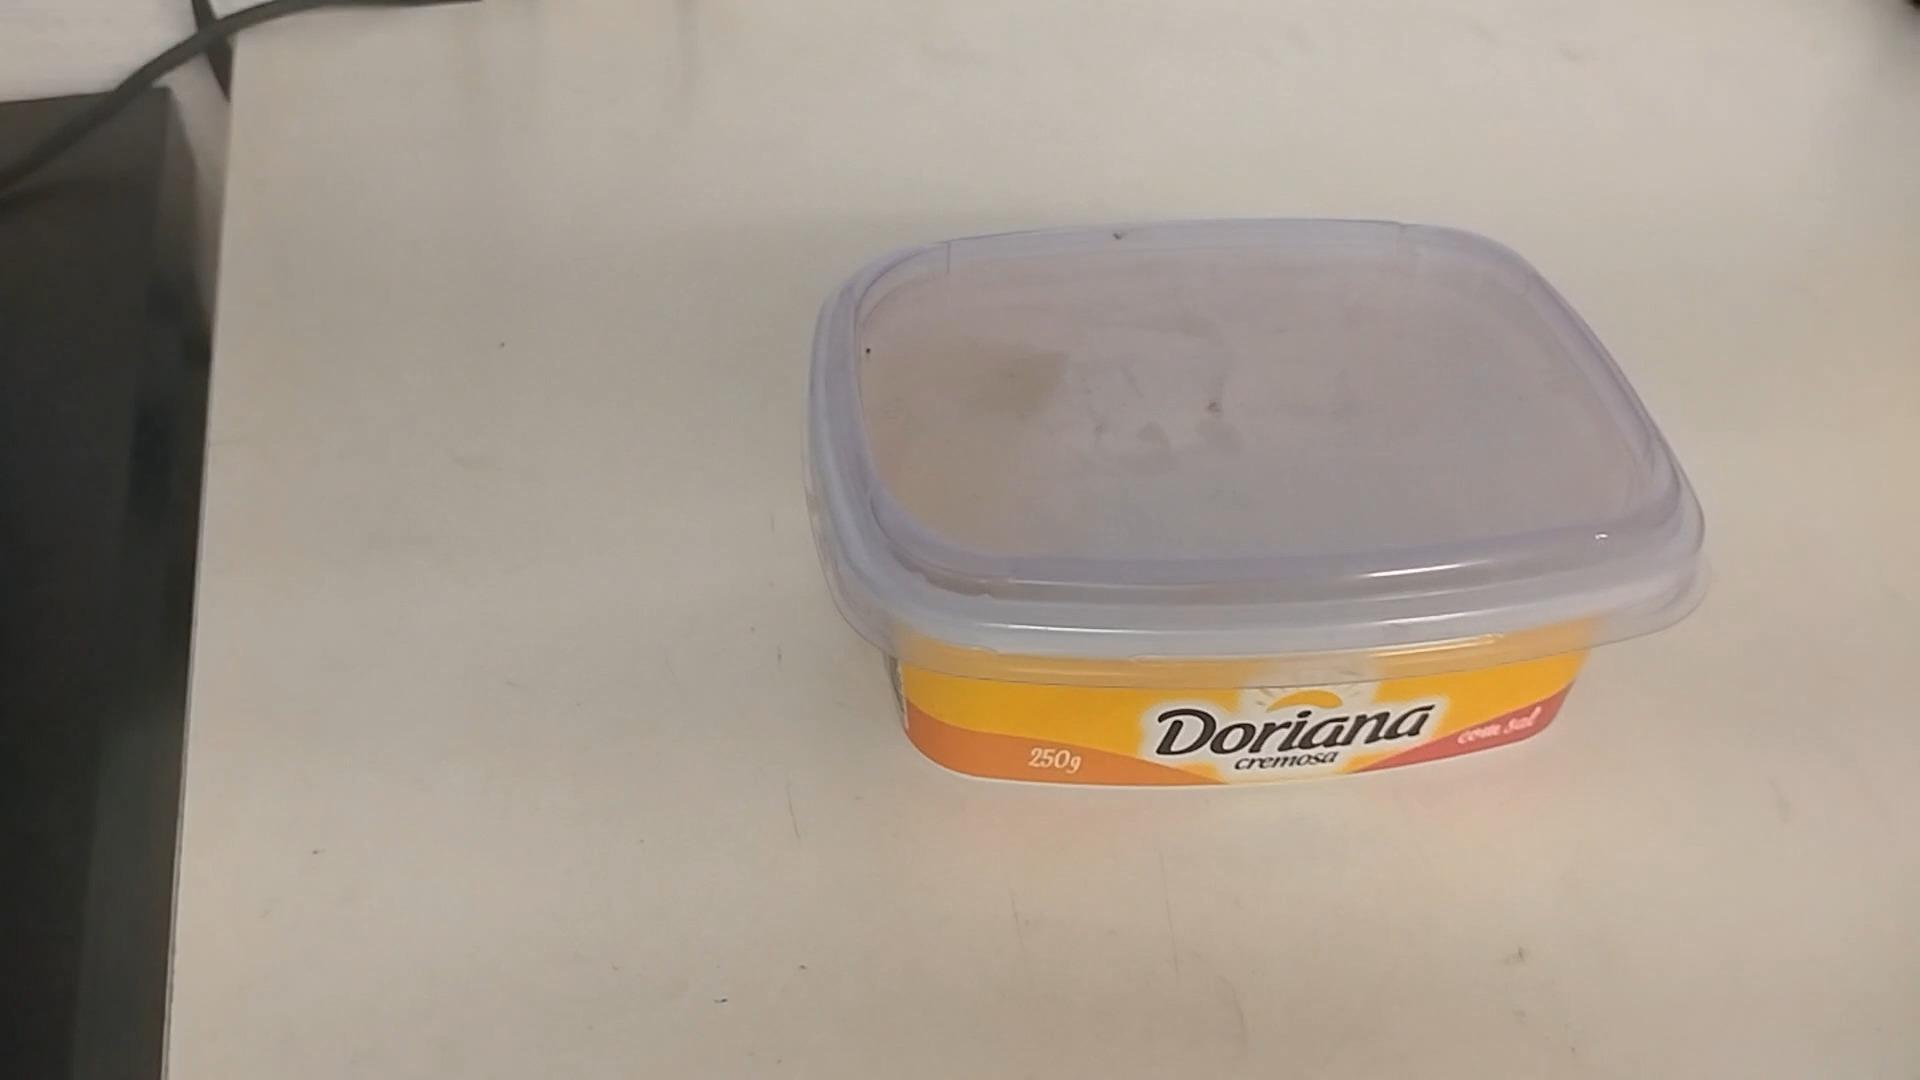butter: (812, 231, 1709, 789)
